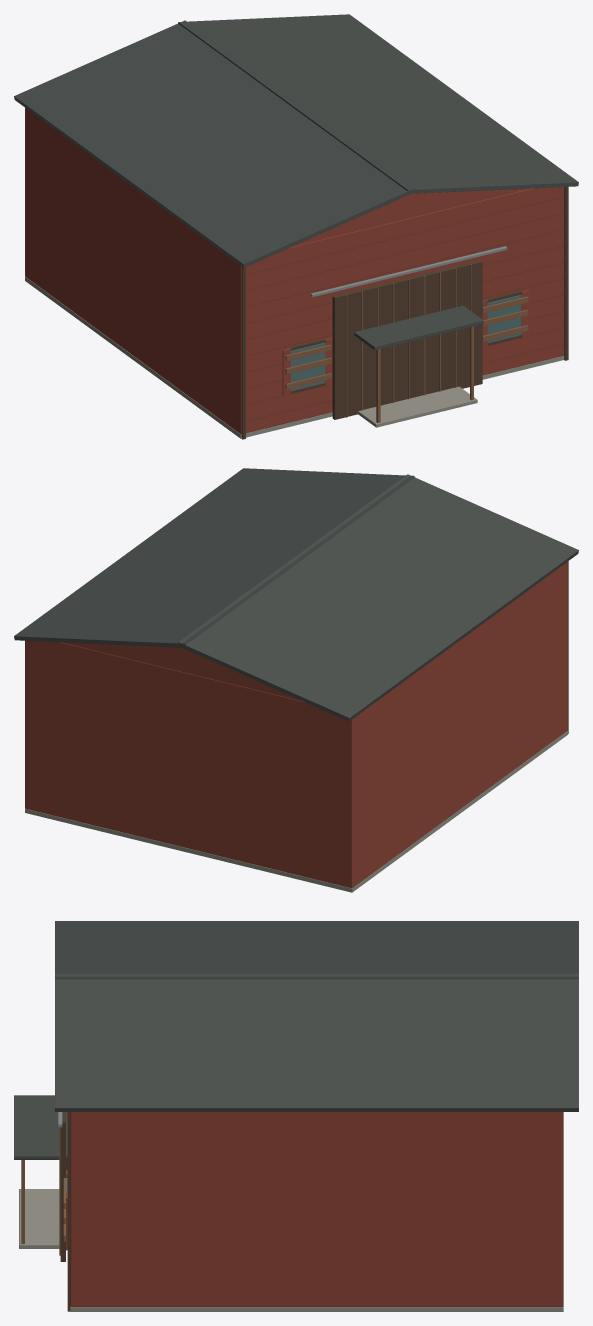
The model's file is env_barn_old.gltf.
3 renders of one model, top to bottom at view 1: azimuth 30°, elevation 25°; view 2: azimuth 150°, elevation 25°; view 3: azimuth 270°, elevation 25°, orthographic. The views are drawn at different scales.
Visible parts, largest first — view 1: env_barn_old__roof, env_barn_old__paint_red, env_barn_old__wood_edge, env_barn_old__wood, env_barn_old__concrete, env_barn_old__glass, env_barn_old__steel; view 2: env_barn_old__paint_red, env_barn_old__roof, env_barn_old__concrete; view 3: env_barn_old__roof, env_barn_old__paint_red, env_barn_old__concrete, env_barn_old__wood_edge, env_barn_old__wood.
Boxes of the visible parts, box(x1,y1,x2,y2) form: env_barn_old__roof: box(14, 14, 578, 350); env_barn_old__paint_red: box(25, 108, 564, 434); env_barn_old__wood_edge: box(241, 186, 568, 439); env_barn_old__wood: box(285, 264, 528, 422); env_barn_old__concrete: box(25, 276, 564, 438); env_barn_old__glass: box(291, 295, 521, 391); env_barn_old__steel: box(310, 246, 507, 297); env_barn_old__paint_red: box(25, 561, 567, 888); env_barn_old__roof: box(14, 468, 578, 721); env_barn_old__concrete: box(25, 730, 567, 892); env_barn_old__roof: box(14, 921, 578, 1159); env_barn_old__paint_red: box(66, 1112, 563, 1306); env_barn_old__concrete: box(19, 1189, 563, 1311); env_barn_old__wood_edge: box(60, 1112, 70, 1311); env_barn_old__wood: box(21, 1127, 65, 1255).
Bounding box in the file's own units: 43.07 × 26.34 × 55.
